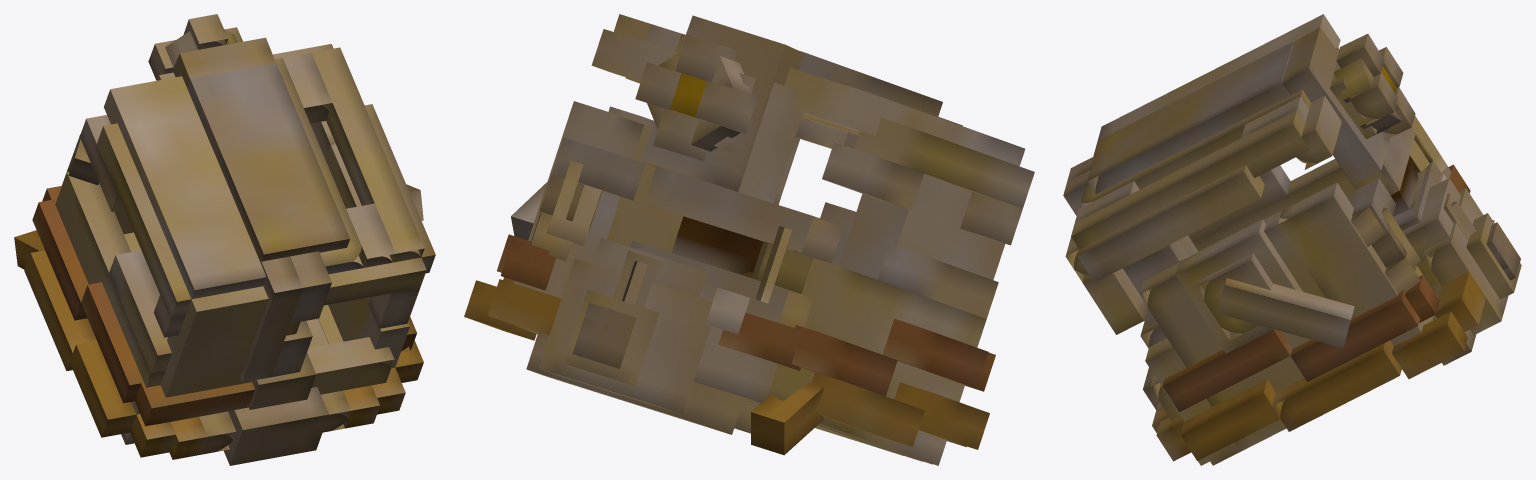
File: t60_helmet_broken.obj
The picture shows the model from 3 angles, left to right: view 1: azimuth 30°, elevation 25°; view 2: azimuth 150°, elevation 25°; view 3: azimuth 270°, elevation 25°; orthographic projection. The views are drawn at different scales.
Parts seen in each view (by area): view 1: Head.002; view 2: Head.002; view 3: Head.002.
Part boxes in pixels (x1=…): Head.002: x1=14, y1=14, x2=435, y2=465; Head.002: x1=464, y1=14, x2=1034, y2=465; Head.002: x1=1063, y1=14, x2=1521, y2=465.
Size of the model in its own units: 0.7526 by 0.8216 by 0.8753.
